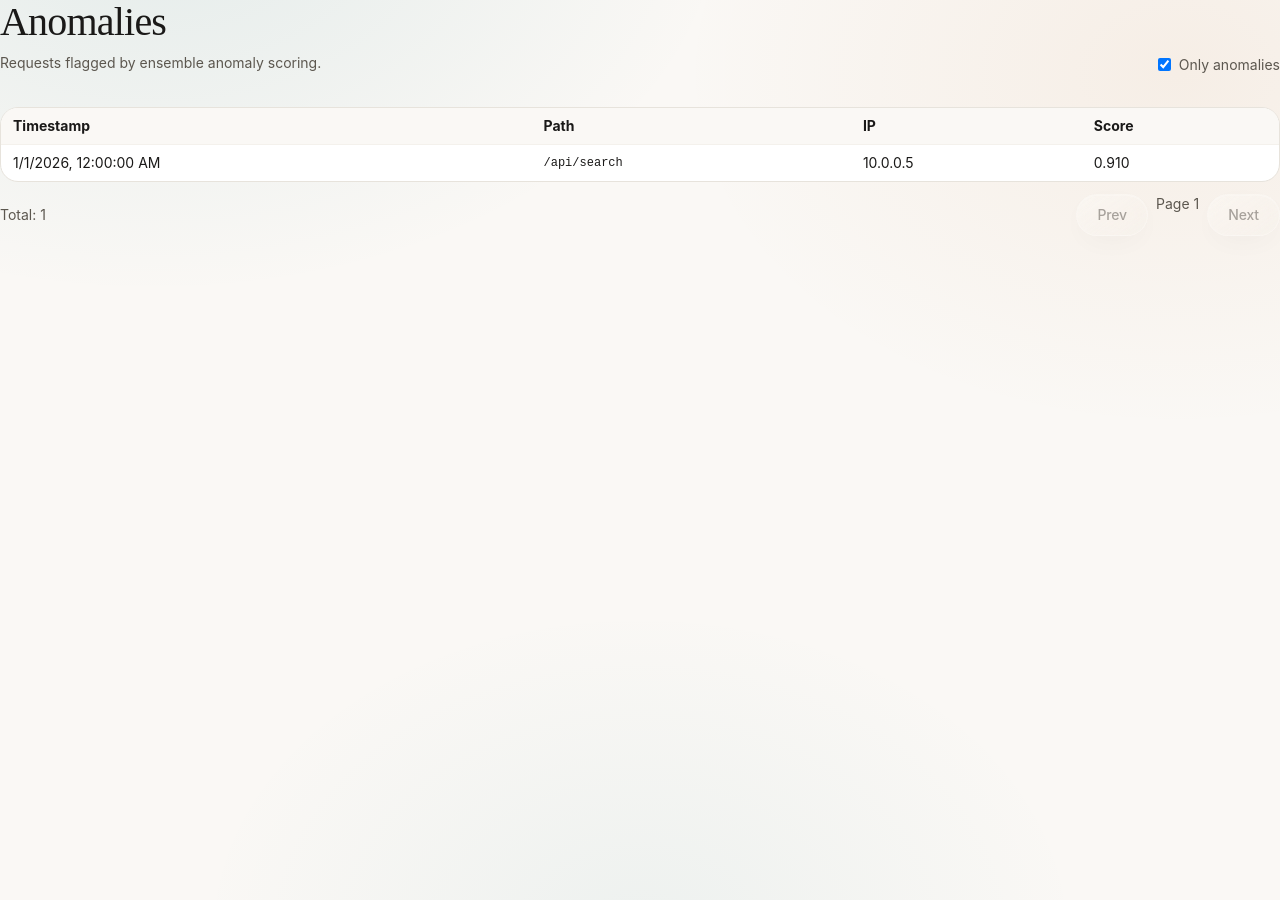
Test: Anomalies page › opens the detail drawer with explanation on row click
Click the button "/api/search". click: (87, 162)
box: [1,144,1279,181]
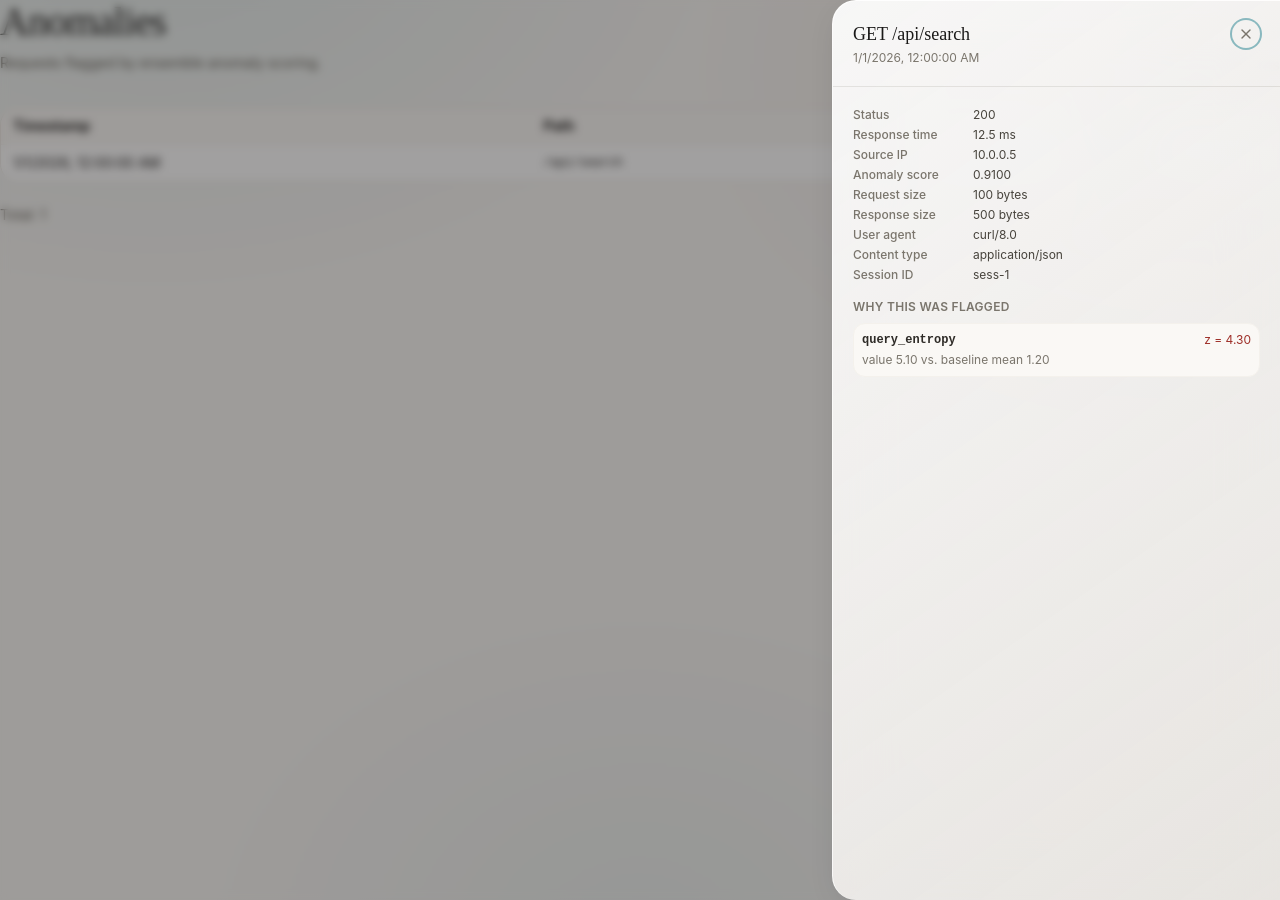
Result: the heading "Why this was flagged" is shown at [853,299,1010,314]
Result: the text "query_entropy" is shown at [862,332,956,348]
